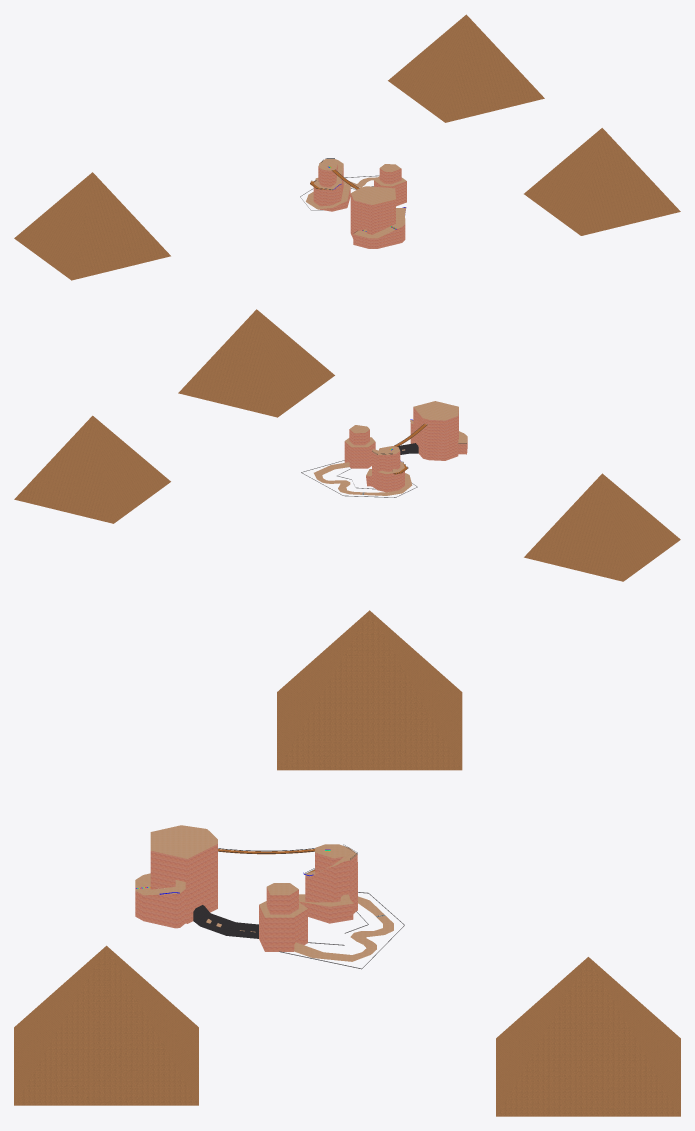
The picture shows the model from 3 angles, top to bottom: view 1: azimuth 30°, elevation 25°; view 2: azimuth 150°, elevation 25°; view 3: azimuth 270°, elevation 25°; orthographic projection. The views are drawn at different scales.
Visible parts, largest first — view 1: polygon27.004, polygon87, polygon5.017; view 2: polygon27.004, polygon87, polygon5.017; view 3: polygon27.004, polygon87, polygon5.017, polygon16.013.
Part boxes in pixels (bbox=[...]): polygon27.004: bbox=[14, 14, 680, 280]; polygon87: bbox=[313, 164, 406, 248]; polygon5.017: bbox=[306, 159, 406, 238]; polygon27.004: bbox=[14, 309, 680, 581]; polygon87: bbox=[344, 407, 467, 492]; polygon5.017: bbox=[314, 401, 467, 495]; polygon27.004: bbox=[14, 610, 680, 1116]; polygon87: bbox=[135, 844, 357, 951]; polygon5.017: bbox=[135, 825, 393, 961]; polygon16.013: bbox=[193, 844, 357, 938].
Size of what is drawn, in the model's own units: 284090 by 37740 by 188597.
9 materials, 9 textured.
